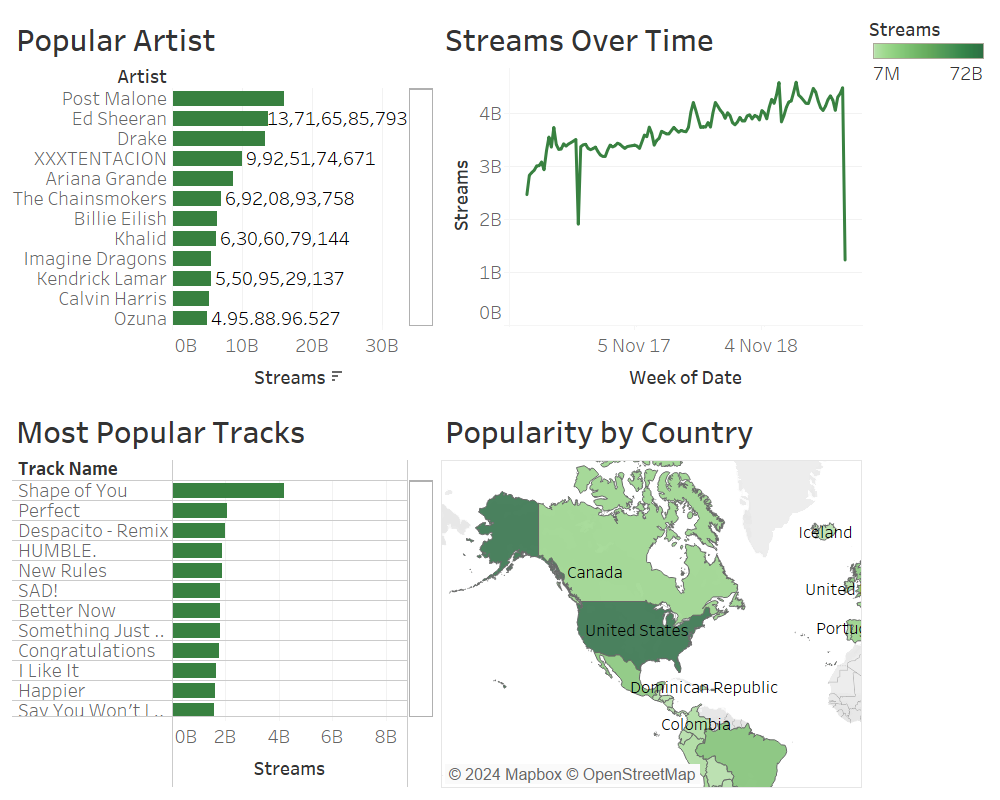

Layout of this report page (visuals, bound fields, positions):
{"tool":"tableau","page":{"name":"SpotifyDashboard","canvas":[1000,800],"ordinal":0},"visuals":[{"type":"worksheet","title":"Popular Artist","mark":"Automatic","rows":["Artist"],"cols":["Streams"],"box":[8,8,428.5,392]},{"type":"worksheet","title":"Streams Over Time","mark":"Automatic","rows":["Streams"],"cols":["Date"],"box":[436.5,8,428.5,392]},{"type":"legend","title":"Popularity by country","param":"[federated.152ukcr104yo1n1h4lt790t2dd42].[sum:Streams:qk]","box":[865,8,127,81]},{"type":"worksheet","title":"Popular Tracks","mark":"Automatic","rows":["Track URL","Track Name"],"cols":["Streams"],"box":[8,400,428.5,392]},{"type":"worksheet","title":"Popularity by country","mark":"Automatic","box":[436.5,400,428.5,392]}]}

Visuals, with their boxes in screenshot pixels (x1, y1, x2, y2), scaled from the page's 1000x800 canvas onto the 1000x800 screenshot:
"Popular Artist" worksheet: rect(8, 8, 436, 400)
"Streams Over Time" worksheet: rect(436, 8, 865, 400)
"Popularity by country" legend: rect(865, 8, 992, 89)
"Popular Tracks" worksheet: rect(8, 400, 436, 792)
"Popularity by country" worksheet: rect(436, 400, 865, 792)
